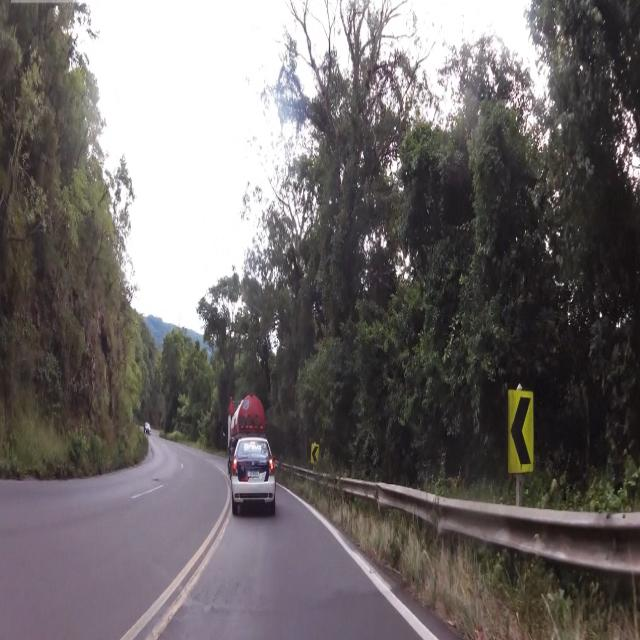Del: (508, 384, 540, 477)
